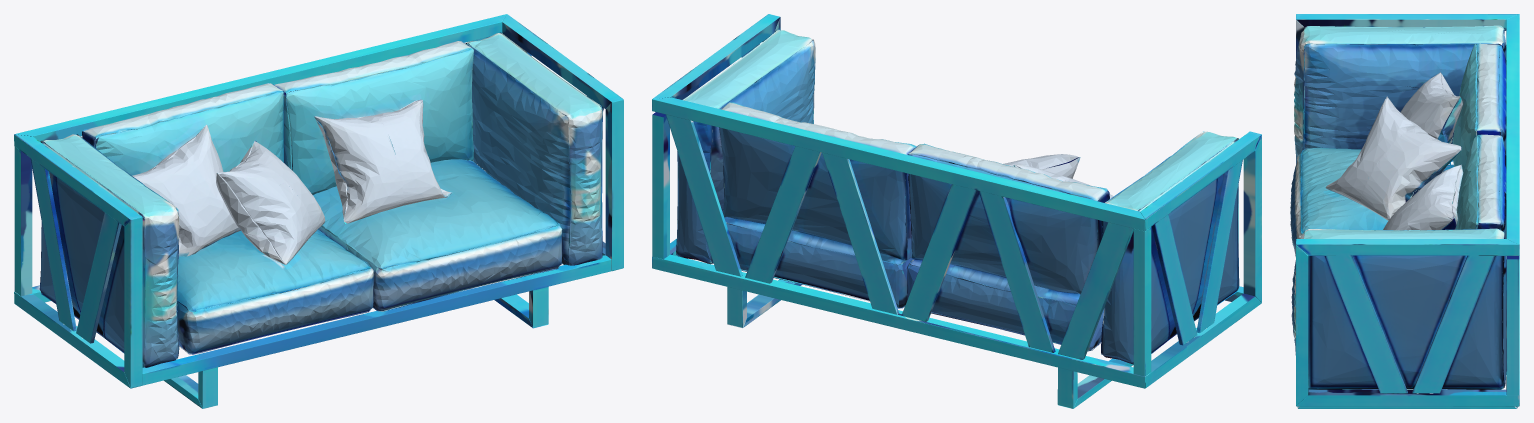
Rendered from edited_mesh.glb.
The picture shows the model from 3 angles, left to right: view 1: azimuth 30°, elevation 25°; view 2: azimuth 150°, elevation 25°; view 3: azimuth 270°, elevation 25°; orthographic projection. The views are drawn at different scales.
Parts seen in each view (by area): view 1: solid_001_wire; view 2: solid_001_wire; view 3: solid_001_wire.
Boxes of the visible parts, x1,y1,x2,y2 form: solid_001_wire: [14, 14, 623, 408]; solid_001_wire: [652, 14, 1261, 408]; solid_001_wire: [1290, 14, 1519, 408].
Bounding box in the file's own units: 2 × 0.8164 × 0.8409.
Materials: 1 (1 with a texture image).
